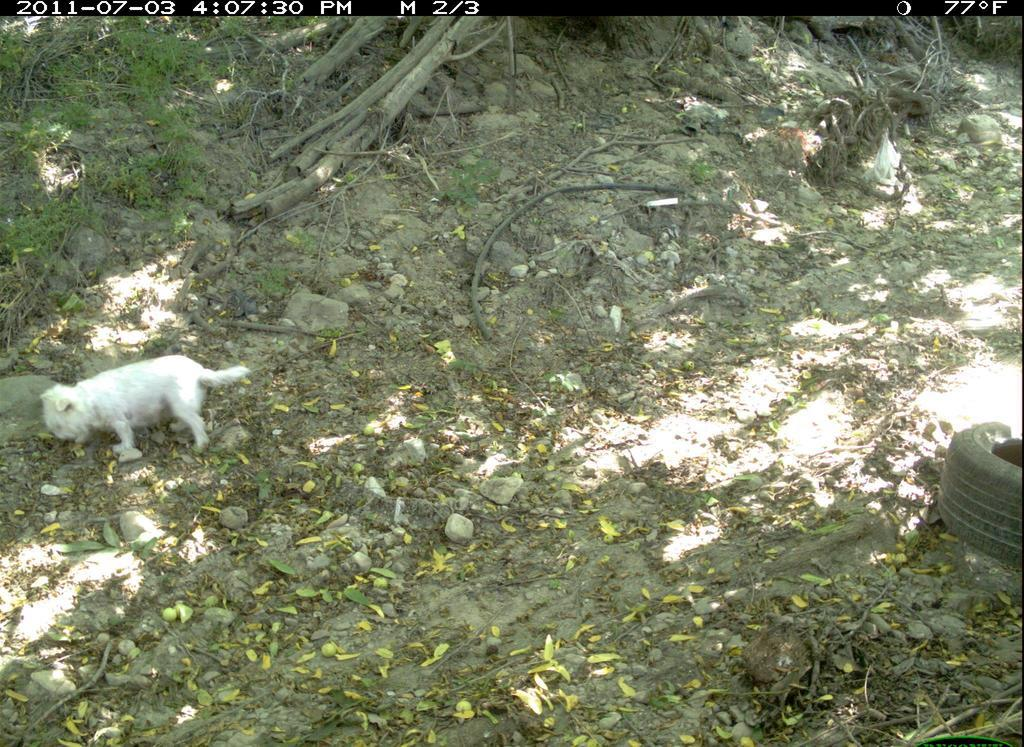dog: (38, 342, 257, 484)
